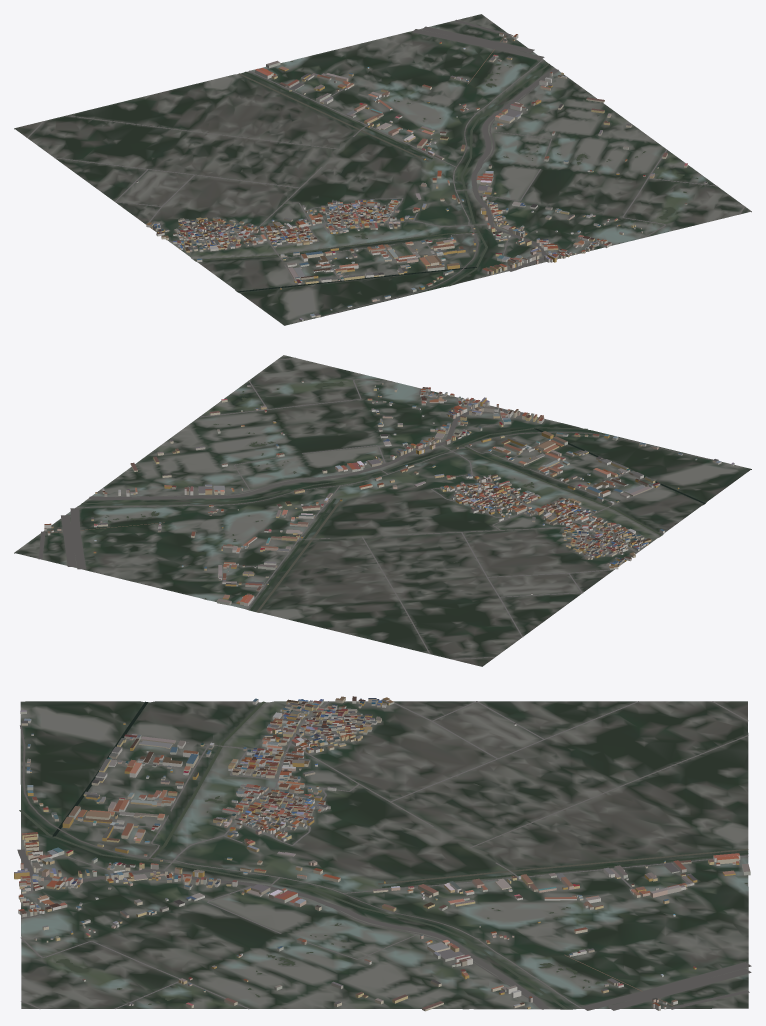
3 renders of one model, top to bottom at view 1: azimuth 30°, elevation 25°; view 2: azimuth 150°, elevation 25°; view 3: azimuth 270°, elevation 25°, orthographic. The views are drawn at different scales.
Visible parts, largest first — view 1: ground, buildings, roads, water; view 2: ground, buildings, roads, water; view 3: ground, buildings, roads, water.
Boxes of the visible parts, x1,y1,x2,y2 form: ground: [14, 14, 751, 325]; buildings: [136, 33, 707, 321]; roads: [27, 19, 744, 317]; water: [193, 60, 698, 292]; ground: [14, 355, 751, 666]; buildings: [44, 381, 734, 606]; roads: [38, 357, 712, 659]; water: [81, 381, 705, 612]; ground: [20, 701, 748, 1009]; buildings: [14, 696, 750, 1011]; roads: [17, 701, 751, 1010]; water: [19, 701, 748, 1009].
Size of the model in its own units: 1421 by 18.7 by 1422.
